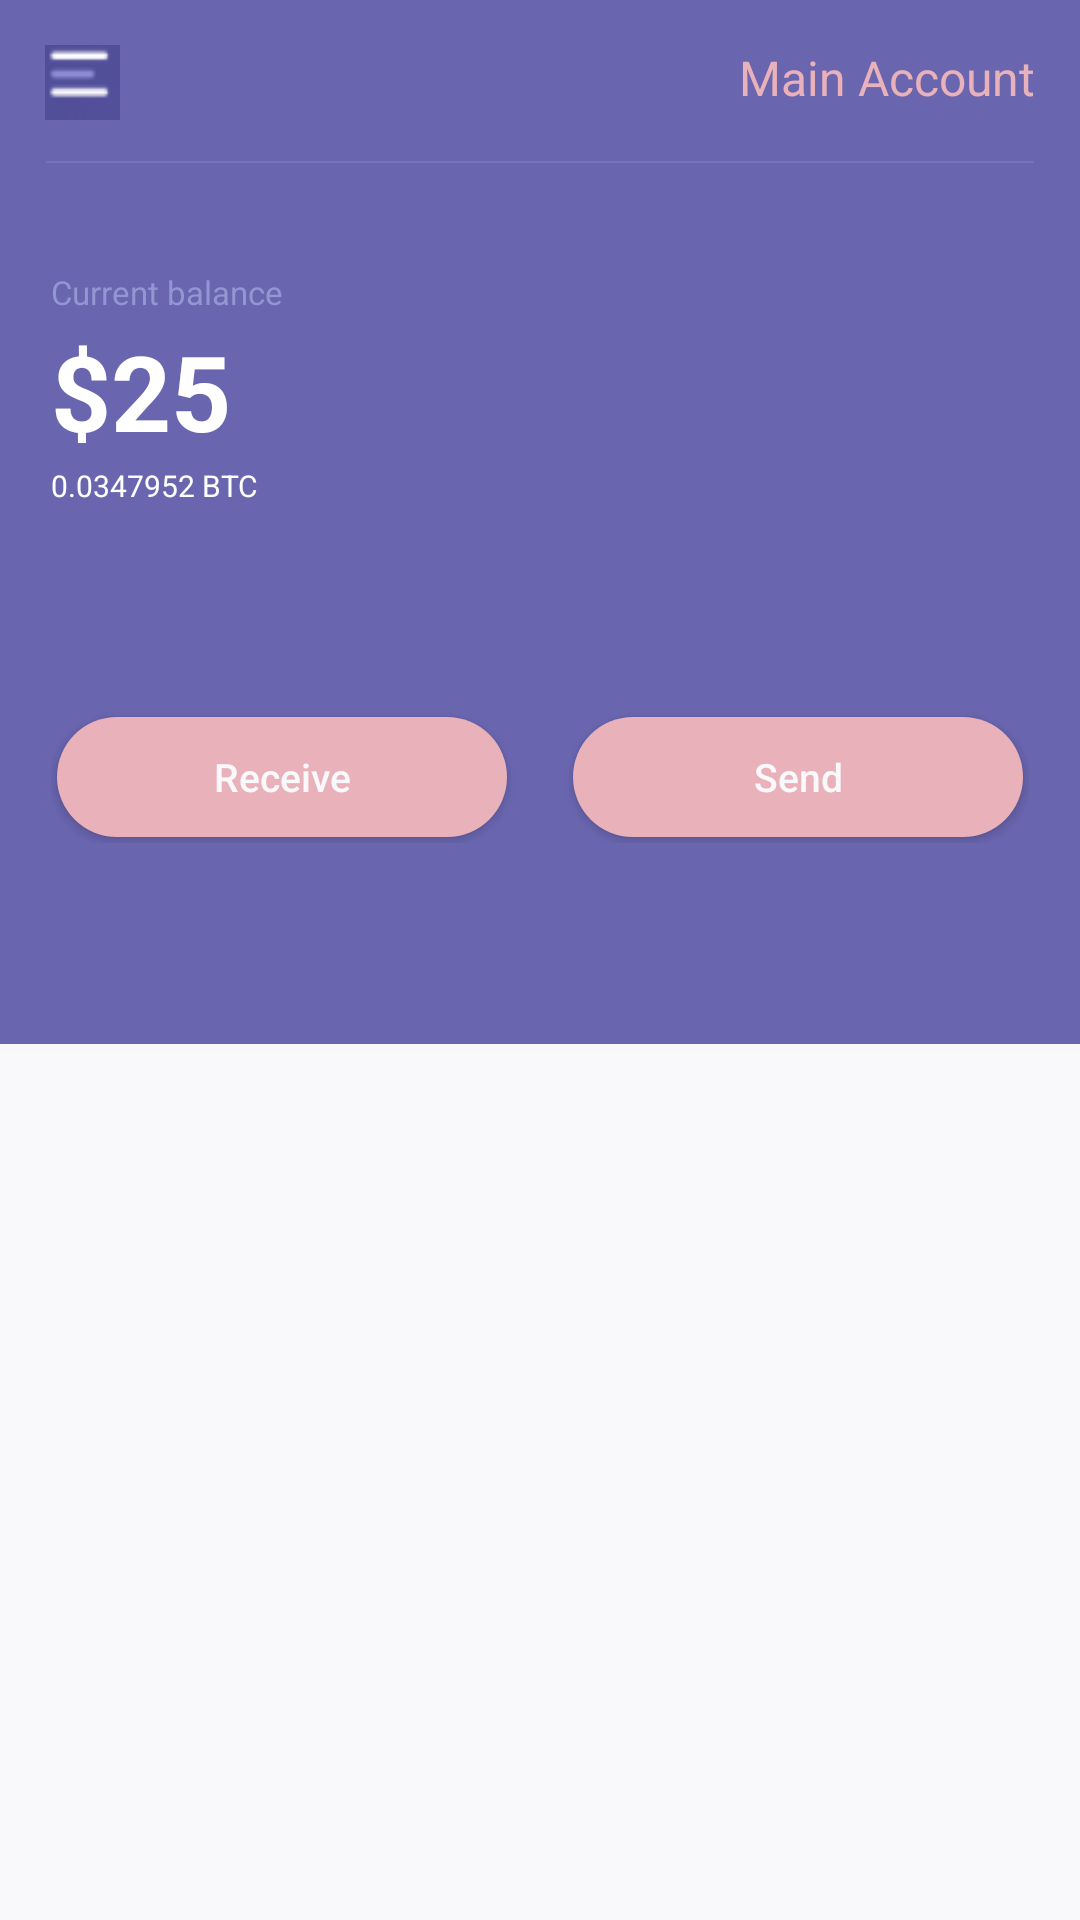

Where to tap for icons on this 1080px×1920px app screen, as (x=x, y=y):
drawer: (x=82, y=82)
